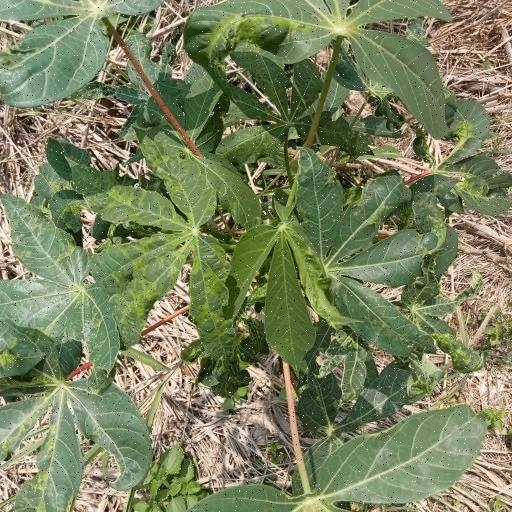Cassava_Mosaic: (70, 160, 229, 340), (301, 145, 431, 360), (0, 328, 156, 506)
